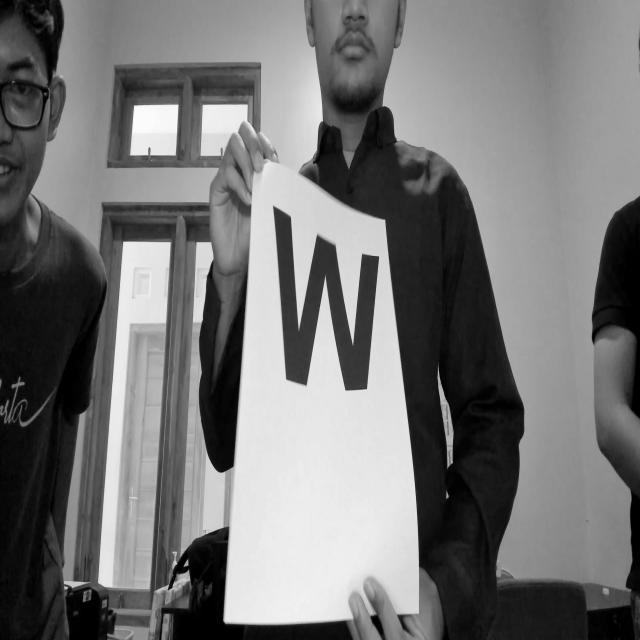w: (260, 206, 383, 413)
